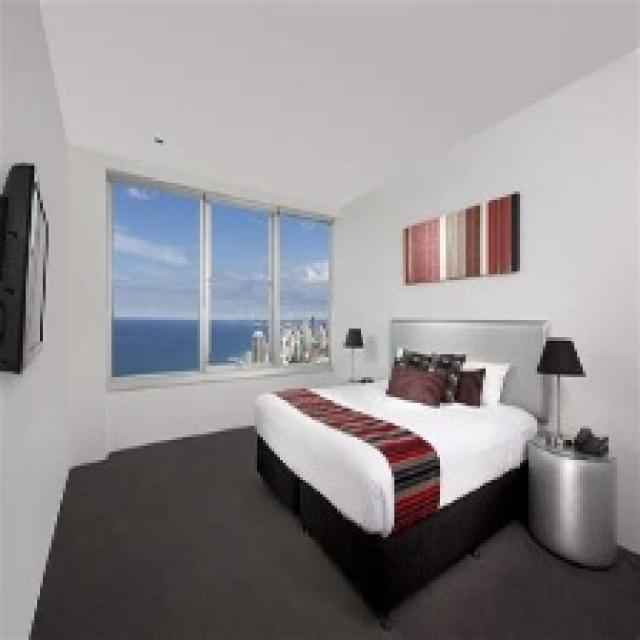Bed: (252, 317, 548, 629)
